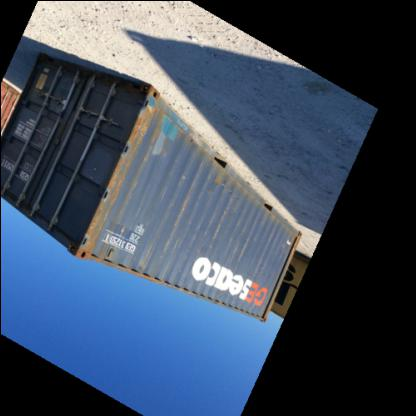Damage: (73, 102, 161, 250), (227, 210, 258, 276), (176, 156, 204, 228), (211, 178, 250, 204), (282, 233, 293, 249)
